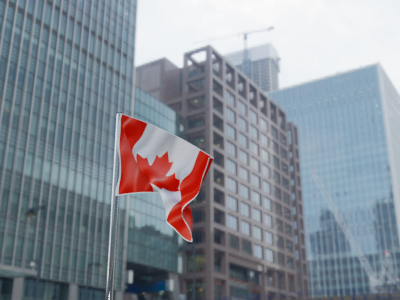Canada flag: (117, 111, 214, 244)
